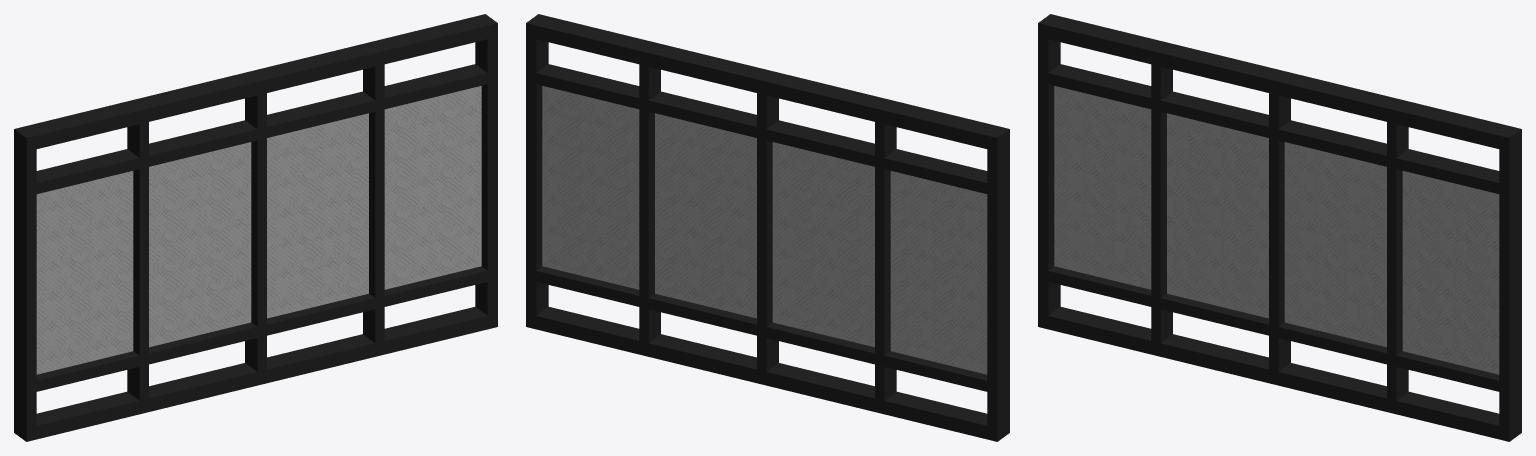
Rendered from LC_3004_false_wall_LOD3.FBX.
The picture shows the model from 3 angles, left to right: view 1: azimuth 30°, elevation 25°; view 2: azimuth 150°, elevation 25°; view 3: azimuth 330°, elevation 25°; orthographic projection.
Parts seen in each view (by area): view 1: LC_3004_false_wall_Glass_LOD3, LC_3004_false_wall_LOD3; view 2: LC_3004_false_wall_Glass_LOD3, LC_3004_false_wall_LOD3; view 3: LC_3004_false_wall_Glass_LOD3, LC_3004_false_wall_LOD3.
Part boxes in pixels (box(x1,y1,x2,y2)): LC_3004_false_wall_Glass_LOD3: box(36, 86, 481, 374); LC_3004_false_wall_LOD3: box(14, 14, 497, 441); LC_3004_false_wall_Glass_LOD3: box(542, 86, 987, 374); LC_3004_false_wall_LOD3: box(526, 14, 1009, 441); LC_3004_false_wall_Glass_LOD3: box(1054, 86, 1499, 374); LC_3004_false_wall_LOD3: box(1038, 14, 1521, 441).
Bounding box in the file's own units: 179 × 110 × 8.19.
Materials: 2 (2 with a texture image).
